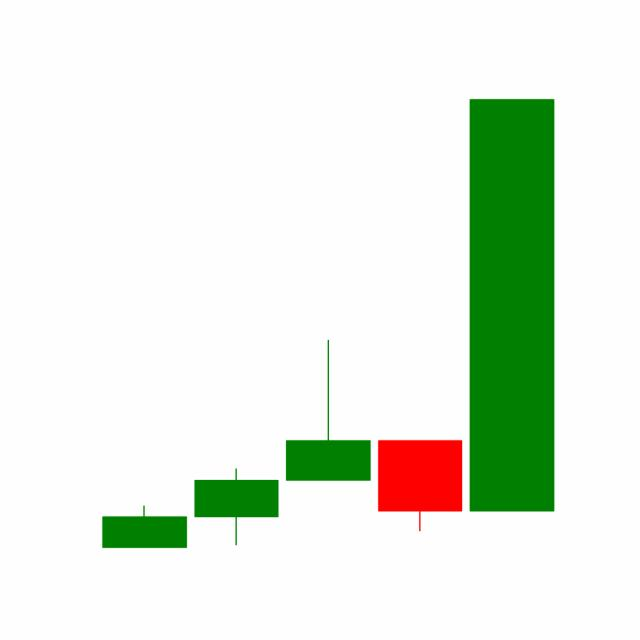Marubozu: (464, 94, 558, 515)
